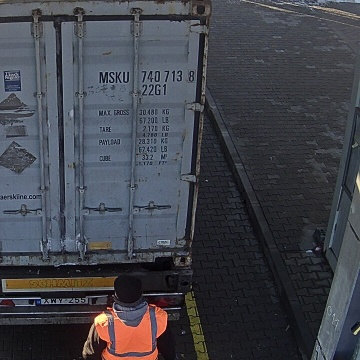serial_id: (99, 70, 194, 83)
